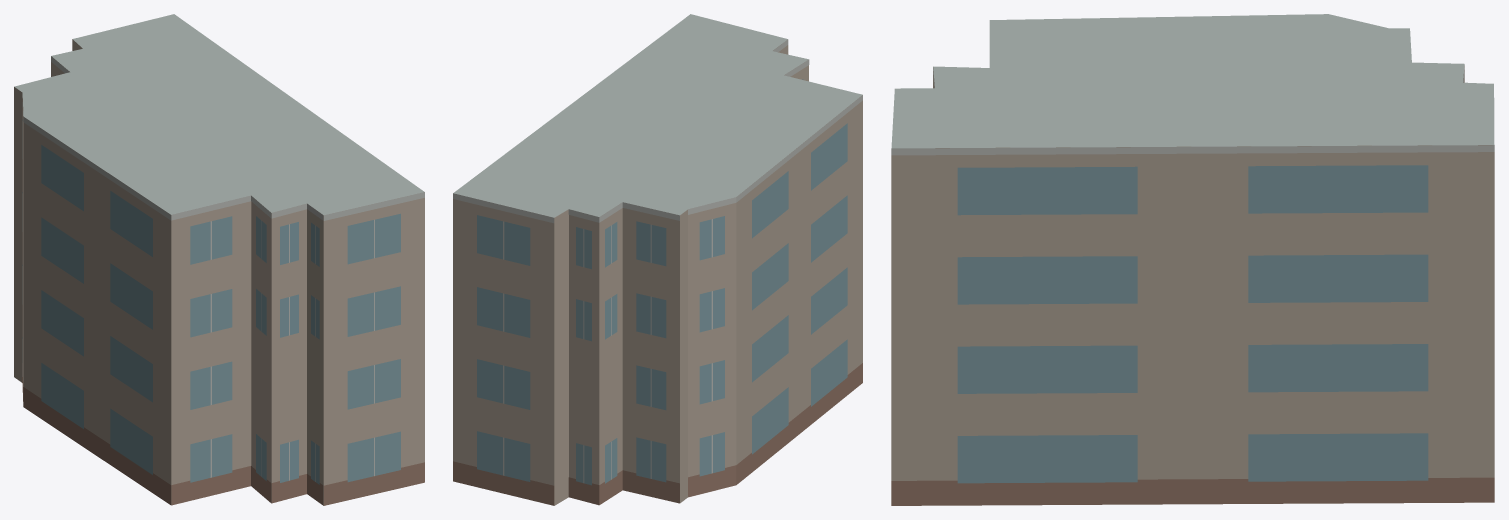
File: survey-upis-32762551.glb
3 renders of one model, left to right at view 1: azimuth 30°, elevation 25°; view 2: azimuth 150°, elevation 25°; view 3: azimuth 270°, elevation 25°, orthographic. The views are drawn at different scales.
Visible parts, largest first — view 1: survey-upis-32762551.tmp; view 2: survey-upis-32762551.tmp; view 3: survey-upis-32762551.tmp.
Boxes of the visible parts, x1,y1,x2,y2 form: survey-upis-32762551.tmp: [14, 14, 424, 505]; survey-upis-32762551.tmp: [453, 14, 862, 505]; survey-upis-32762551.tmp: [891, 14, 1494, 505].
Bounding box in the file's own units: 10 × 12.4 × 18.97.
